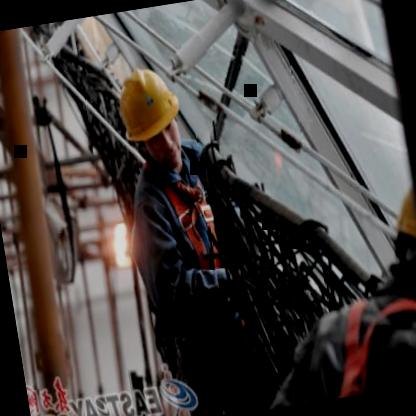helmet: (109, 58, 193, 172)
